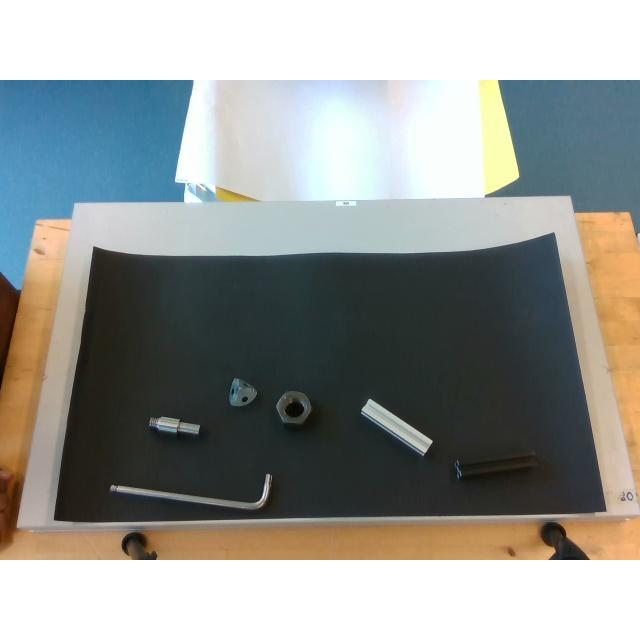AllenKey: (109, 474, 271, 510)
Axis2: (147, 417, 200, 435)
F20_20_B: (454, 451, 538, 479)
F20_20_G: (361, 398, 433, 454)
M30: (276, 392, 312, 424)
